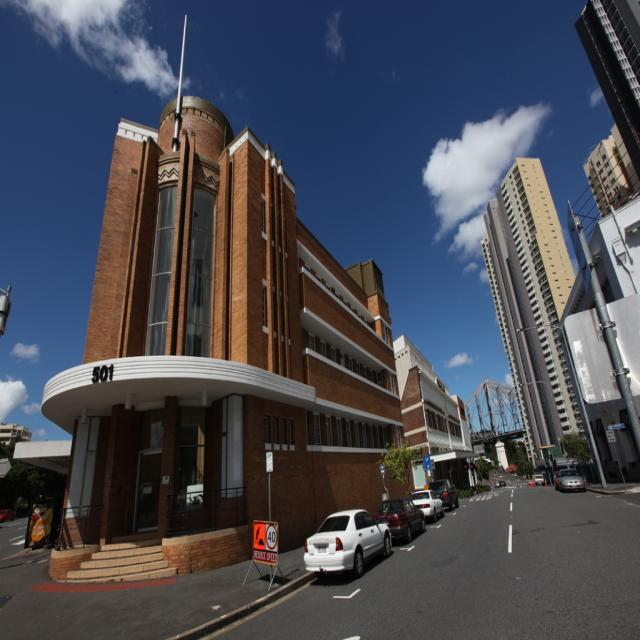car: (303, 510, 394, 574), (554, 465, 585, 490)
